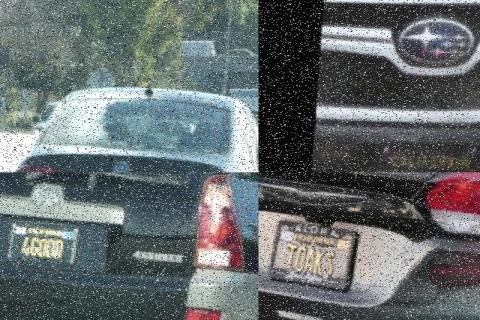LicensePlate: (258, 214, 358, 290), (332, 137, 480, 173), (0, 219, 77, 273)
